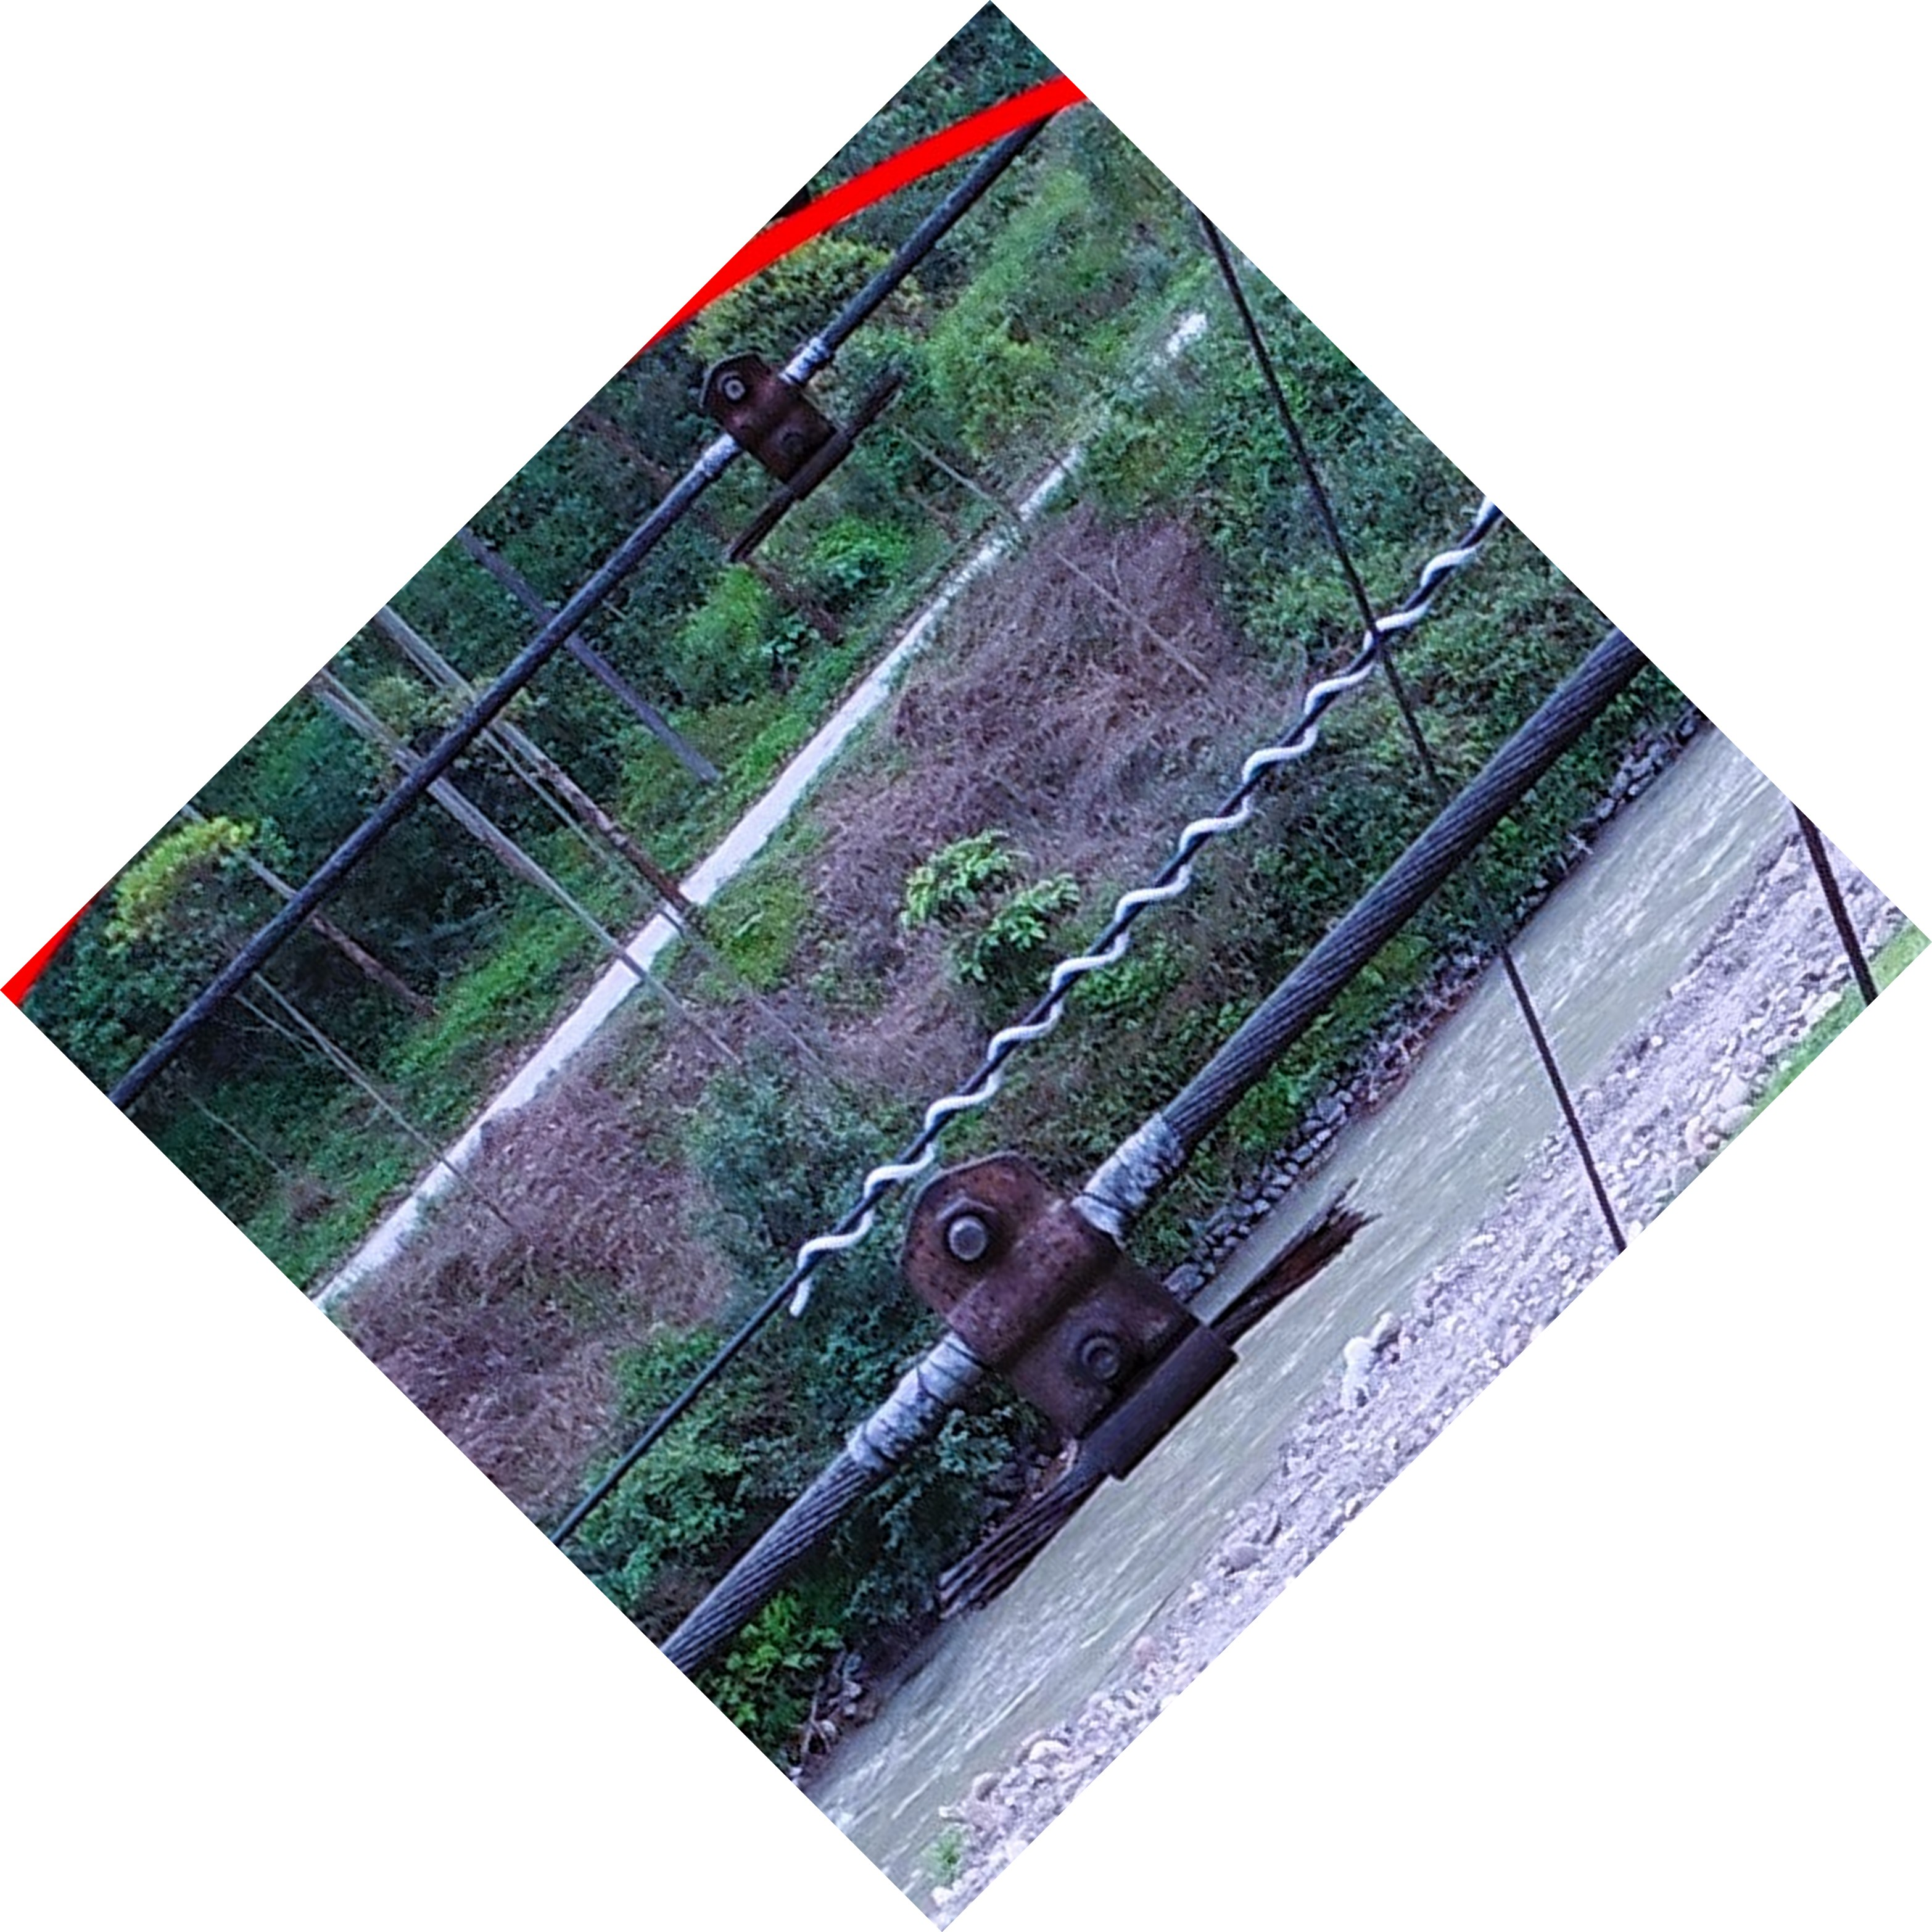Damage of shockproof hammer: (851, 1058, 1431, 1622), (640, 304, 943, 602)
